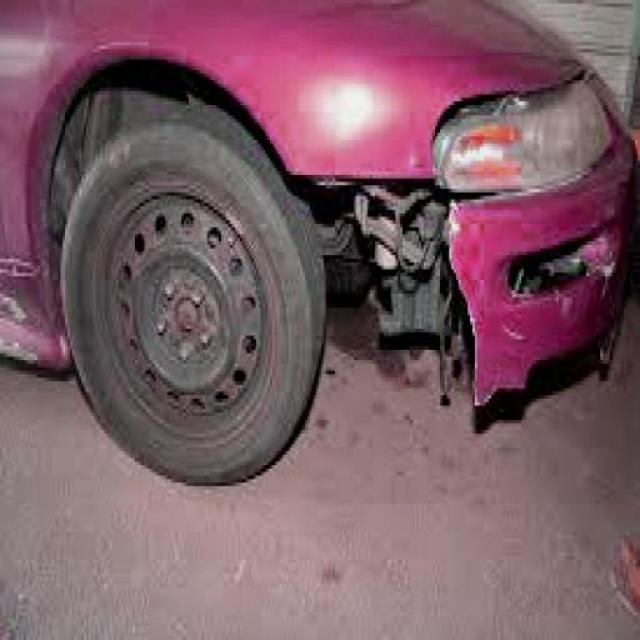Car-Damage: (293, 172, 615, 399)
